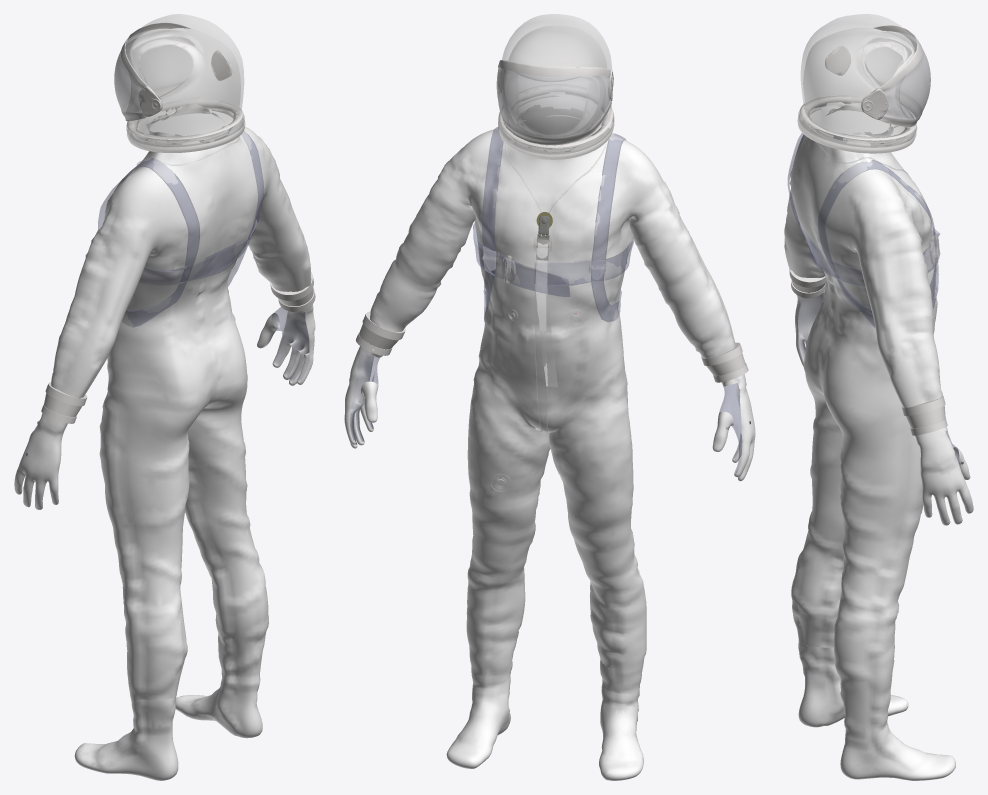
The model's file is mercury-suit.glb.
3 renders of one model, left to right at view 1: azimuth 30°, elevation 25°; view 2: azimuth 150°, elevation 25°; view 3: azimuth 270°, elevation 25°, orthographic.
Visible parts, largest first — view 1: Mercury Spacesuit; view 2: Mercury Spacesuit; view 3: Mercury Spacesuit.
Part boxes in pixels (x1,y1,x2,y2): Mercury Spacesuit: (14,14,315,780); Mercury Spacesuit: (344,14,755,780); Mercury Spacesuit: (784,14,973,780).
Bounding box in the file's own units: 0.9948 × 2 × 0.4718.
6 materials, 6 textured.
